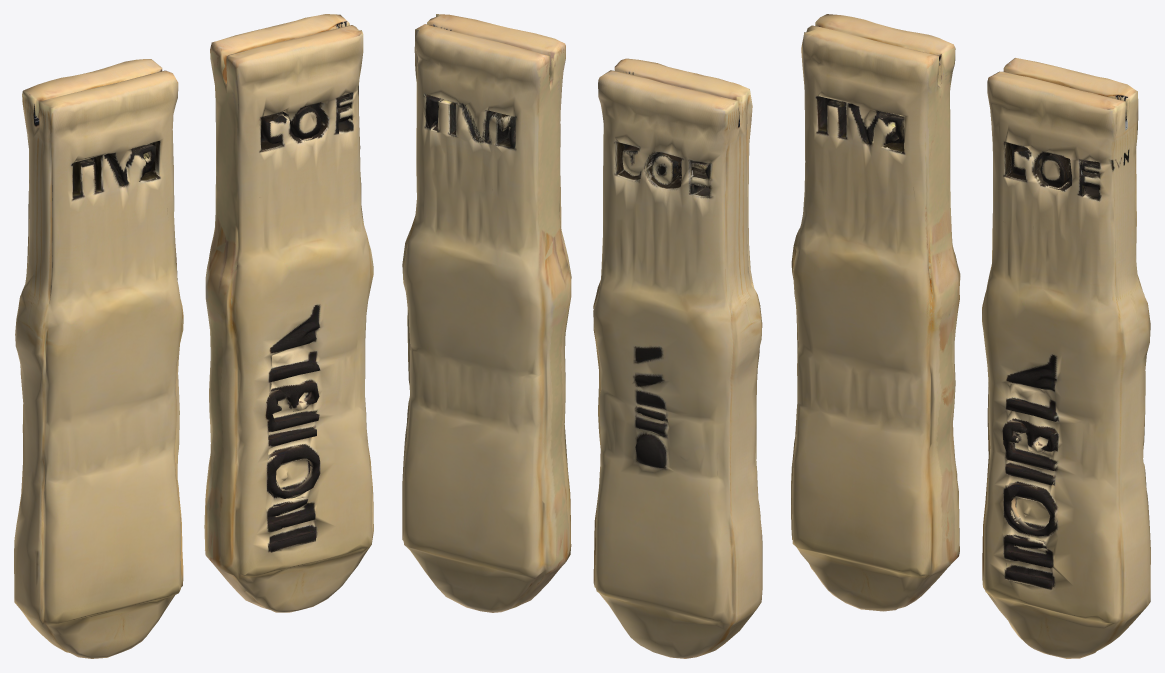
File: HVNDOBE_Socks_0615000856_texture.glb
3 views of the same model, side by side, from view 1: azimuth 30°, elevation 25°; view 2: azimuth 150°, elevation 25°; view 3: azimuth 330°, elevation 25° (orthographic).
Size of the model in its own units: 1.26 by 2 by 0.2761.
Materials: 1 (1 with a texture image).
